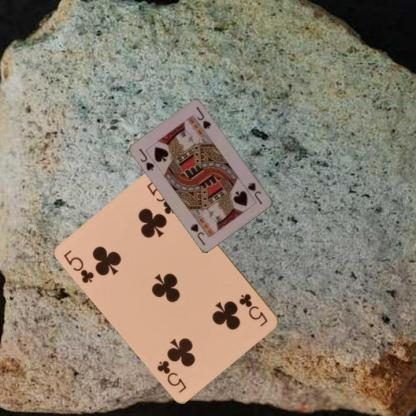5c: (61, 247, 96, 285), (236, 291, 270, 328)
Js: (136, 146, 156, 172), (245, 180, 264, 206)
